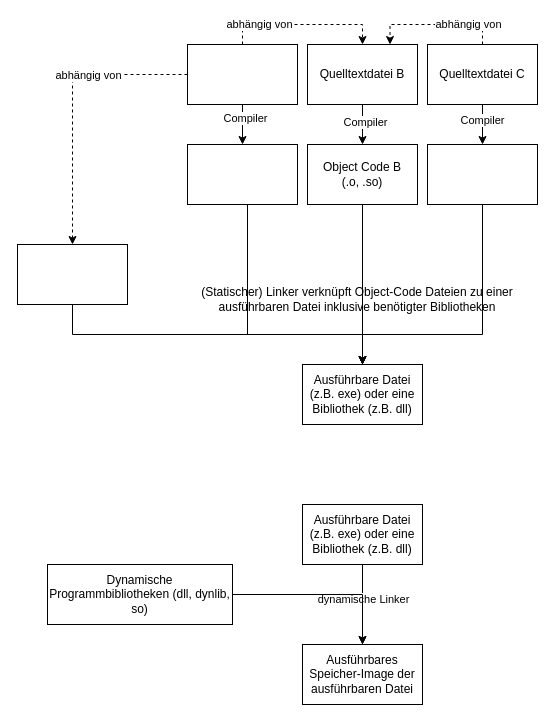
The diagram is 555 pixels wide and 722 high, and some of its shapes have lost their labels. The shapes that lost their labels are listed below. From the top down, each one's centre as x and y in pixels, then its label:
(242,74): Quelltextdatei A (.c, .cpp)
(242,174): Object Code A (.o, .so)
(482,174): Object Code C (.o, .so)
(72,274): Bibliotheken (z.B. dll)
